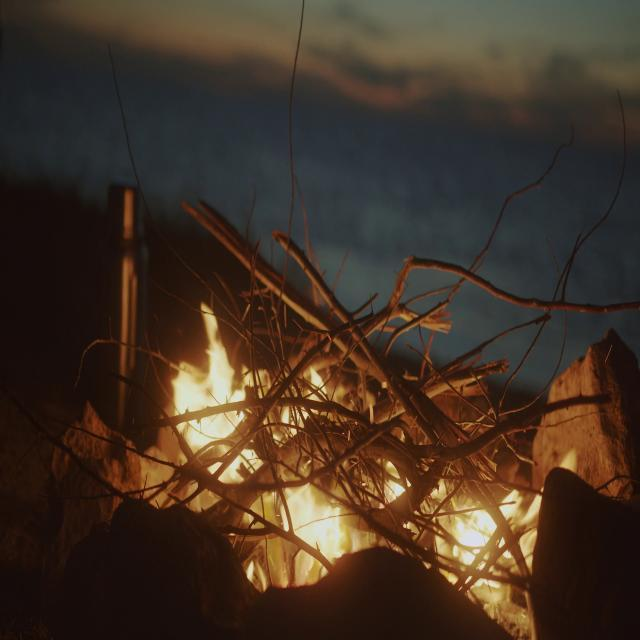Fire: (157, 300, 353, 571), (383, 458, 550, 620)
